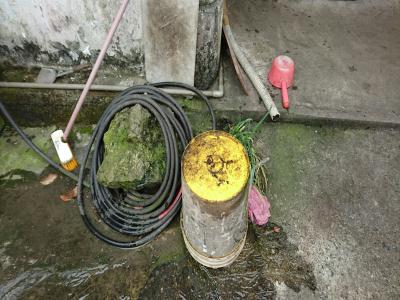bowl: (266, 53, 296, 90)
bucket: (178, 127, 254, 271)
